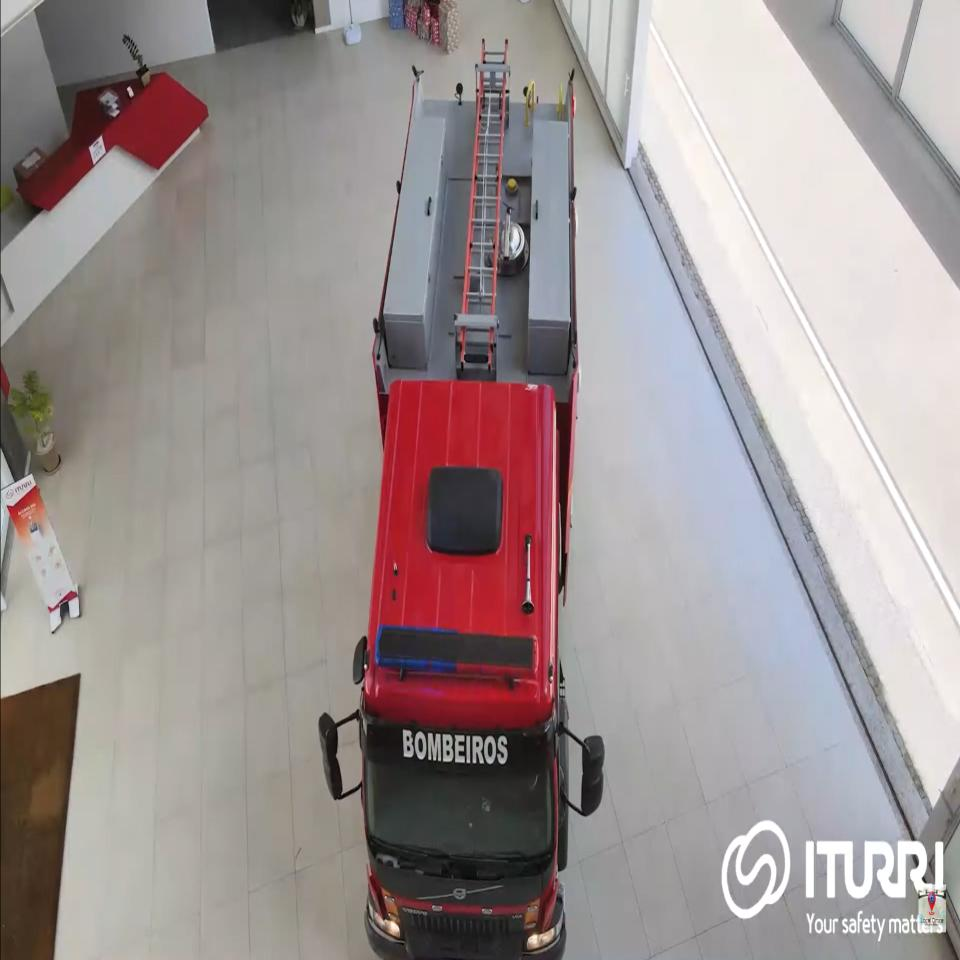bombeiro: (318, 33, 608, 960)
